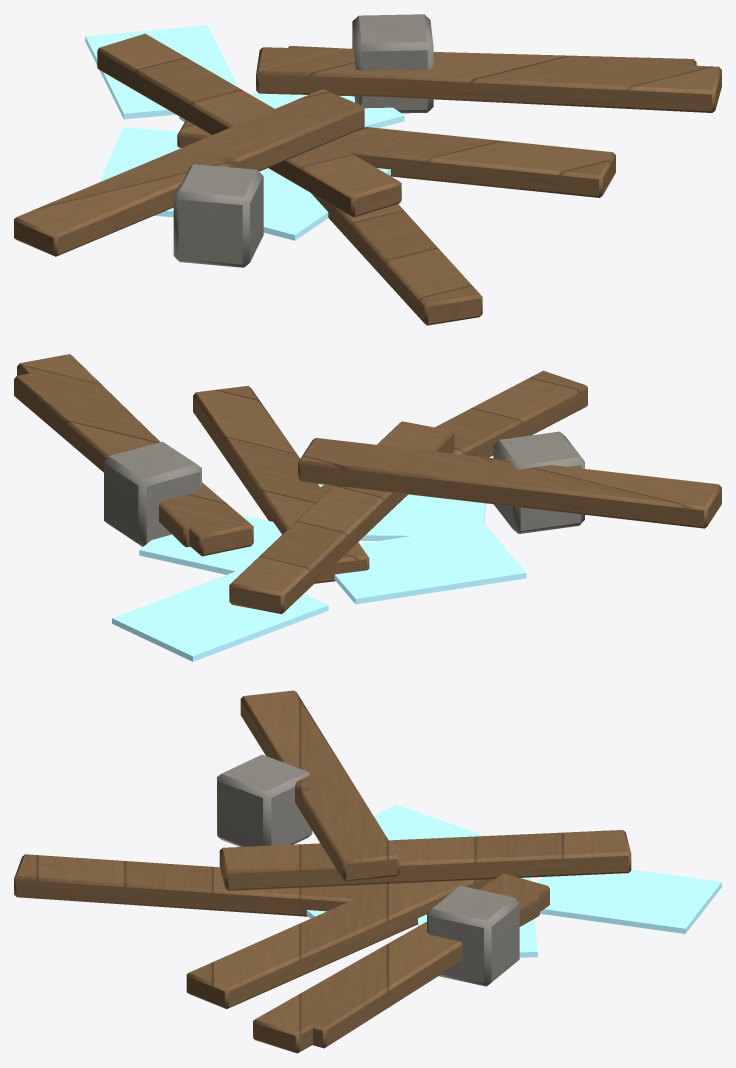
Rendered from cargo_spill_building.glb.
The picture shows the model from 3 angles, top to bottom: view 1: azimuth 30°, elevation 25°; view 2: azimuth 150°, elevation 25°; view 3: azimuth 270°, elevation 25°; orthographic projection. The views are drawn at different scales.
Visible parts, largest first — view 1: cargo_spill_building; view 2: cargo_spill_building; view 3: cargo_spill_building.
Boxes of the visible parts, left/top/right/bottom form: cargo_spill_building: left=14, top=14, right=721, bottom=325; cargo_spill_building: left=14, top=354, right=721, bottom=661; cargo_spill_building: left=14, top=690, right=721, bottom=1053.
Bounding box in the file's own units: 2.62 × 0.25 × 2.43.
3 materials, 2 textured.
